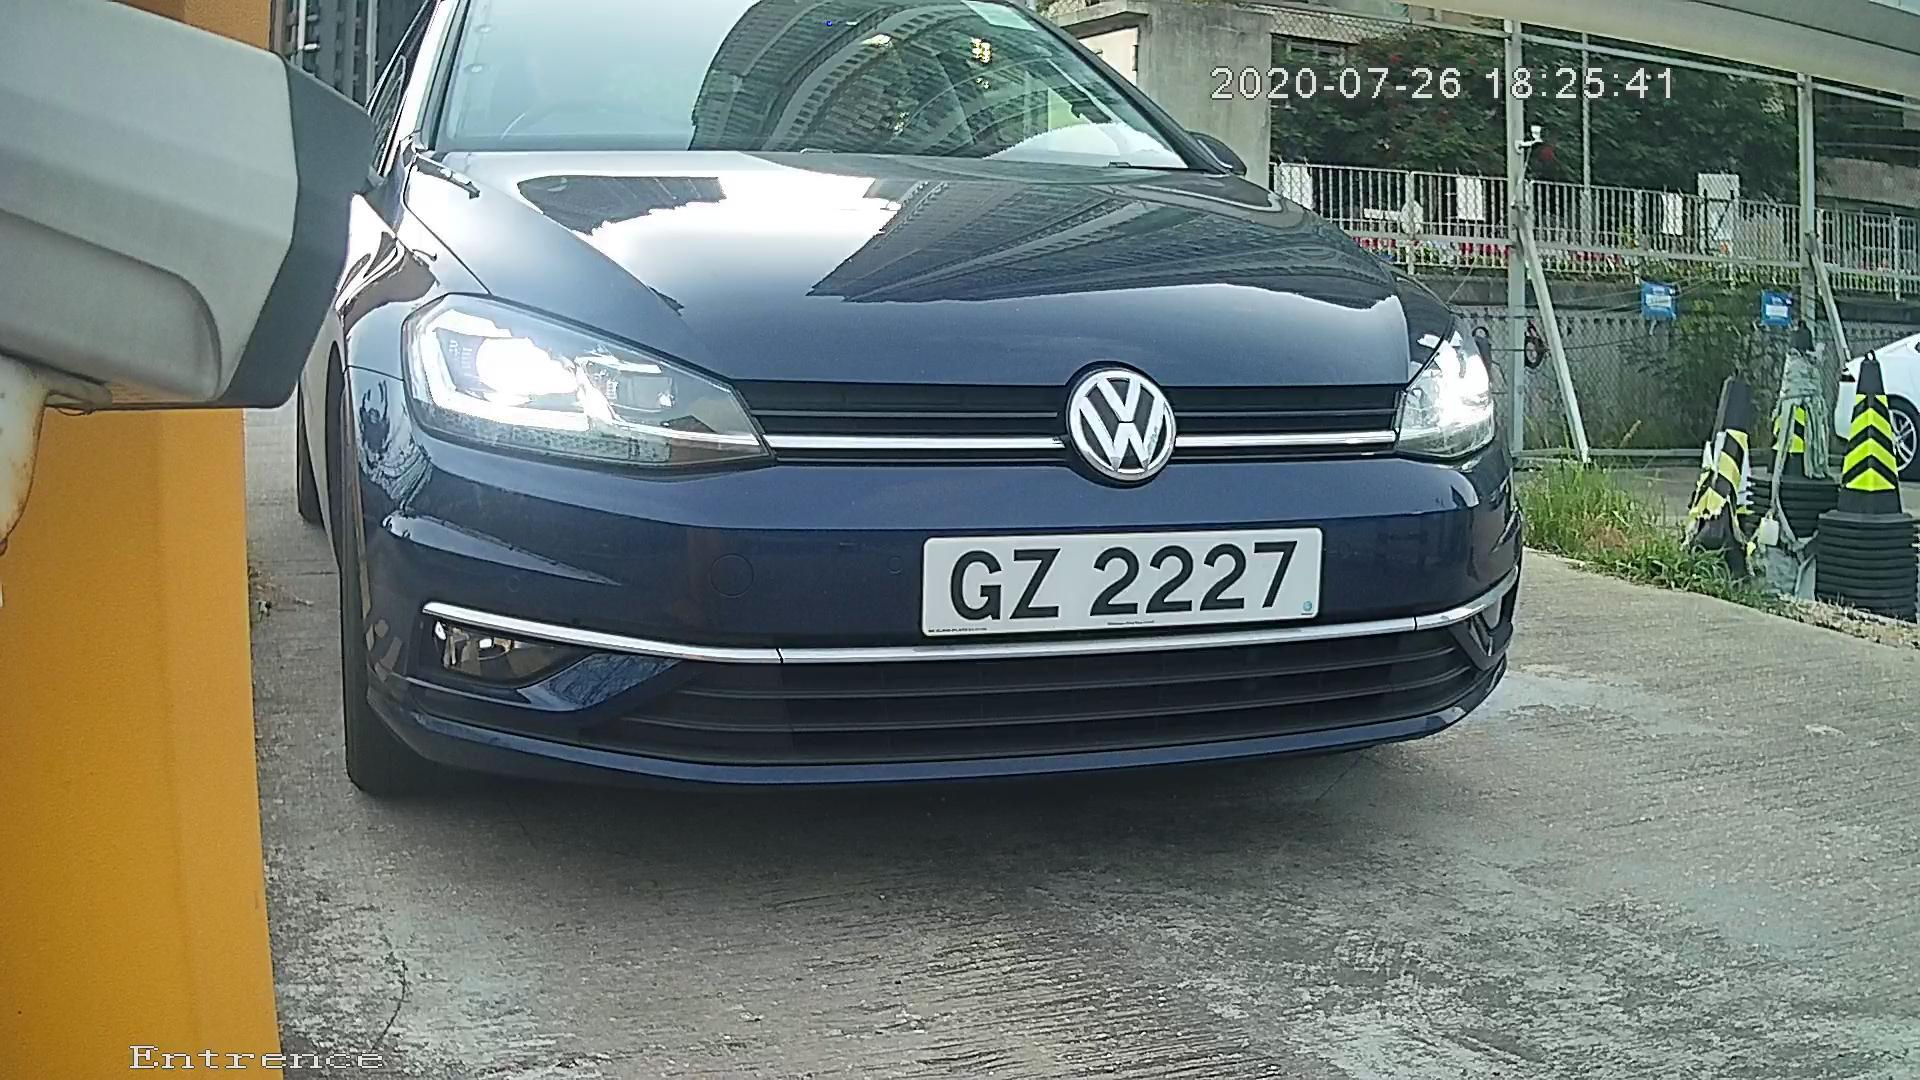Car: (206, 39, 1578, 806)
License Plate: (901, 516, 1329, 637)
